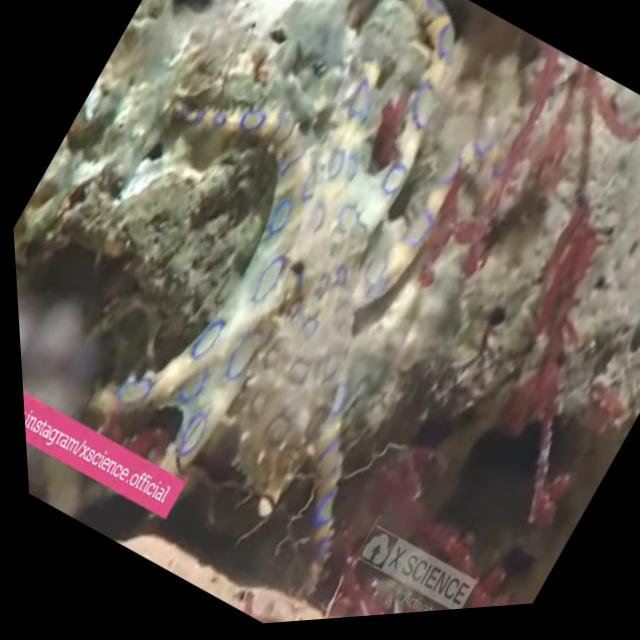blue_ringed_octopus: (0, 0, 624, 622)
